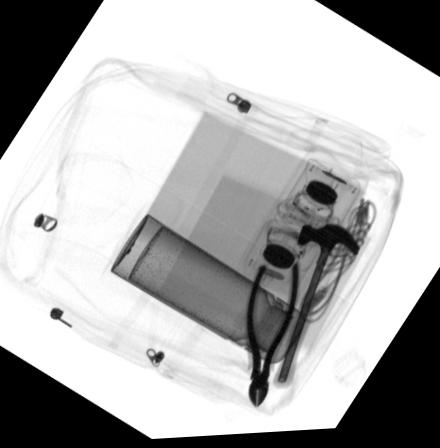Hammer: (271, 226, 359, 392)
Pliers: (243, 263, 299, 408)
